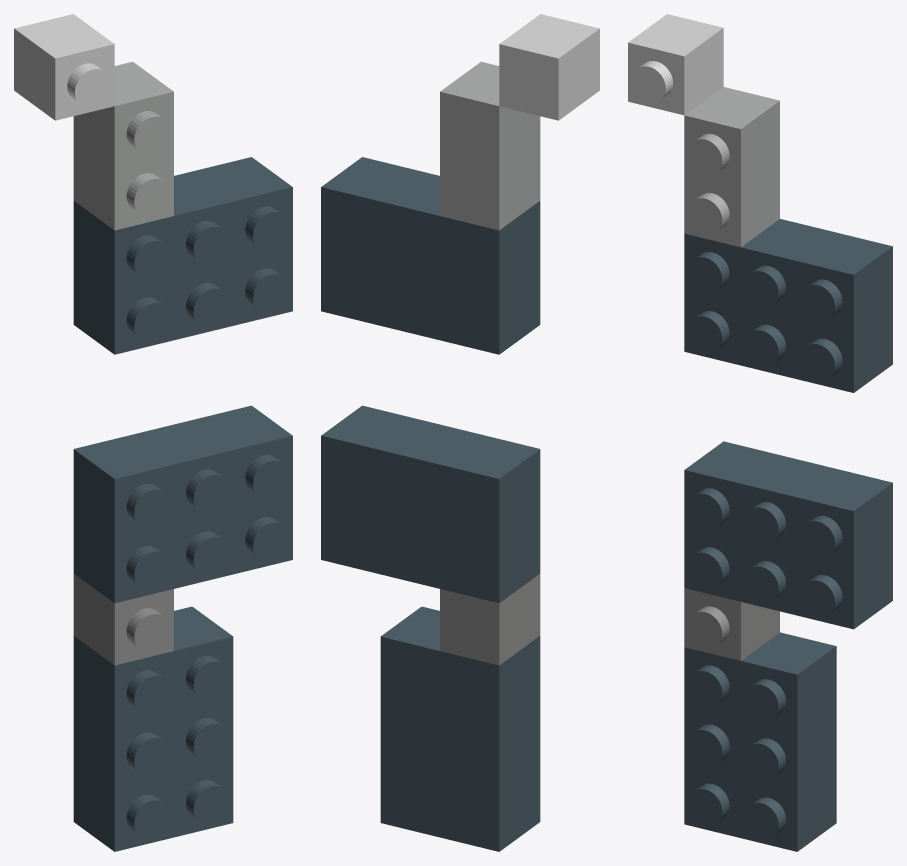
File: current.glb
3 views of the same model, side by side, from view 1: azimuth 30°, elevation 25°; view 2: azimuth 150°, elevation 25°; view 3: azimuth 330°, elevation 25° (orthographic). The views are drawn at different scales.
Parts seen in each view (by area): view 1: world; view 2: world; view 3: world.
Part boxes in pixels (<box>): world: <box>14,14,292,851</box>; world: <box>321,14,599,851</box>; world: <box>628,14,892,851</box>.
Size of the model in its own units: 32 by 104 by 11.4.
